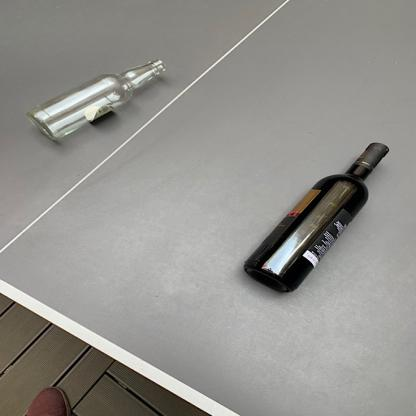trash: (242, 142, 387, 293), (26, 56, 174, 157)
